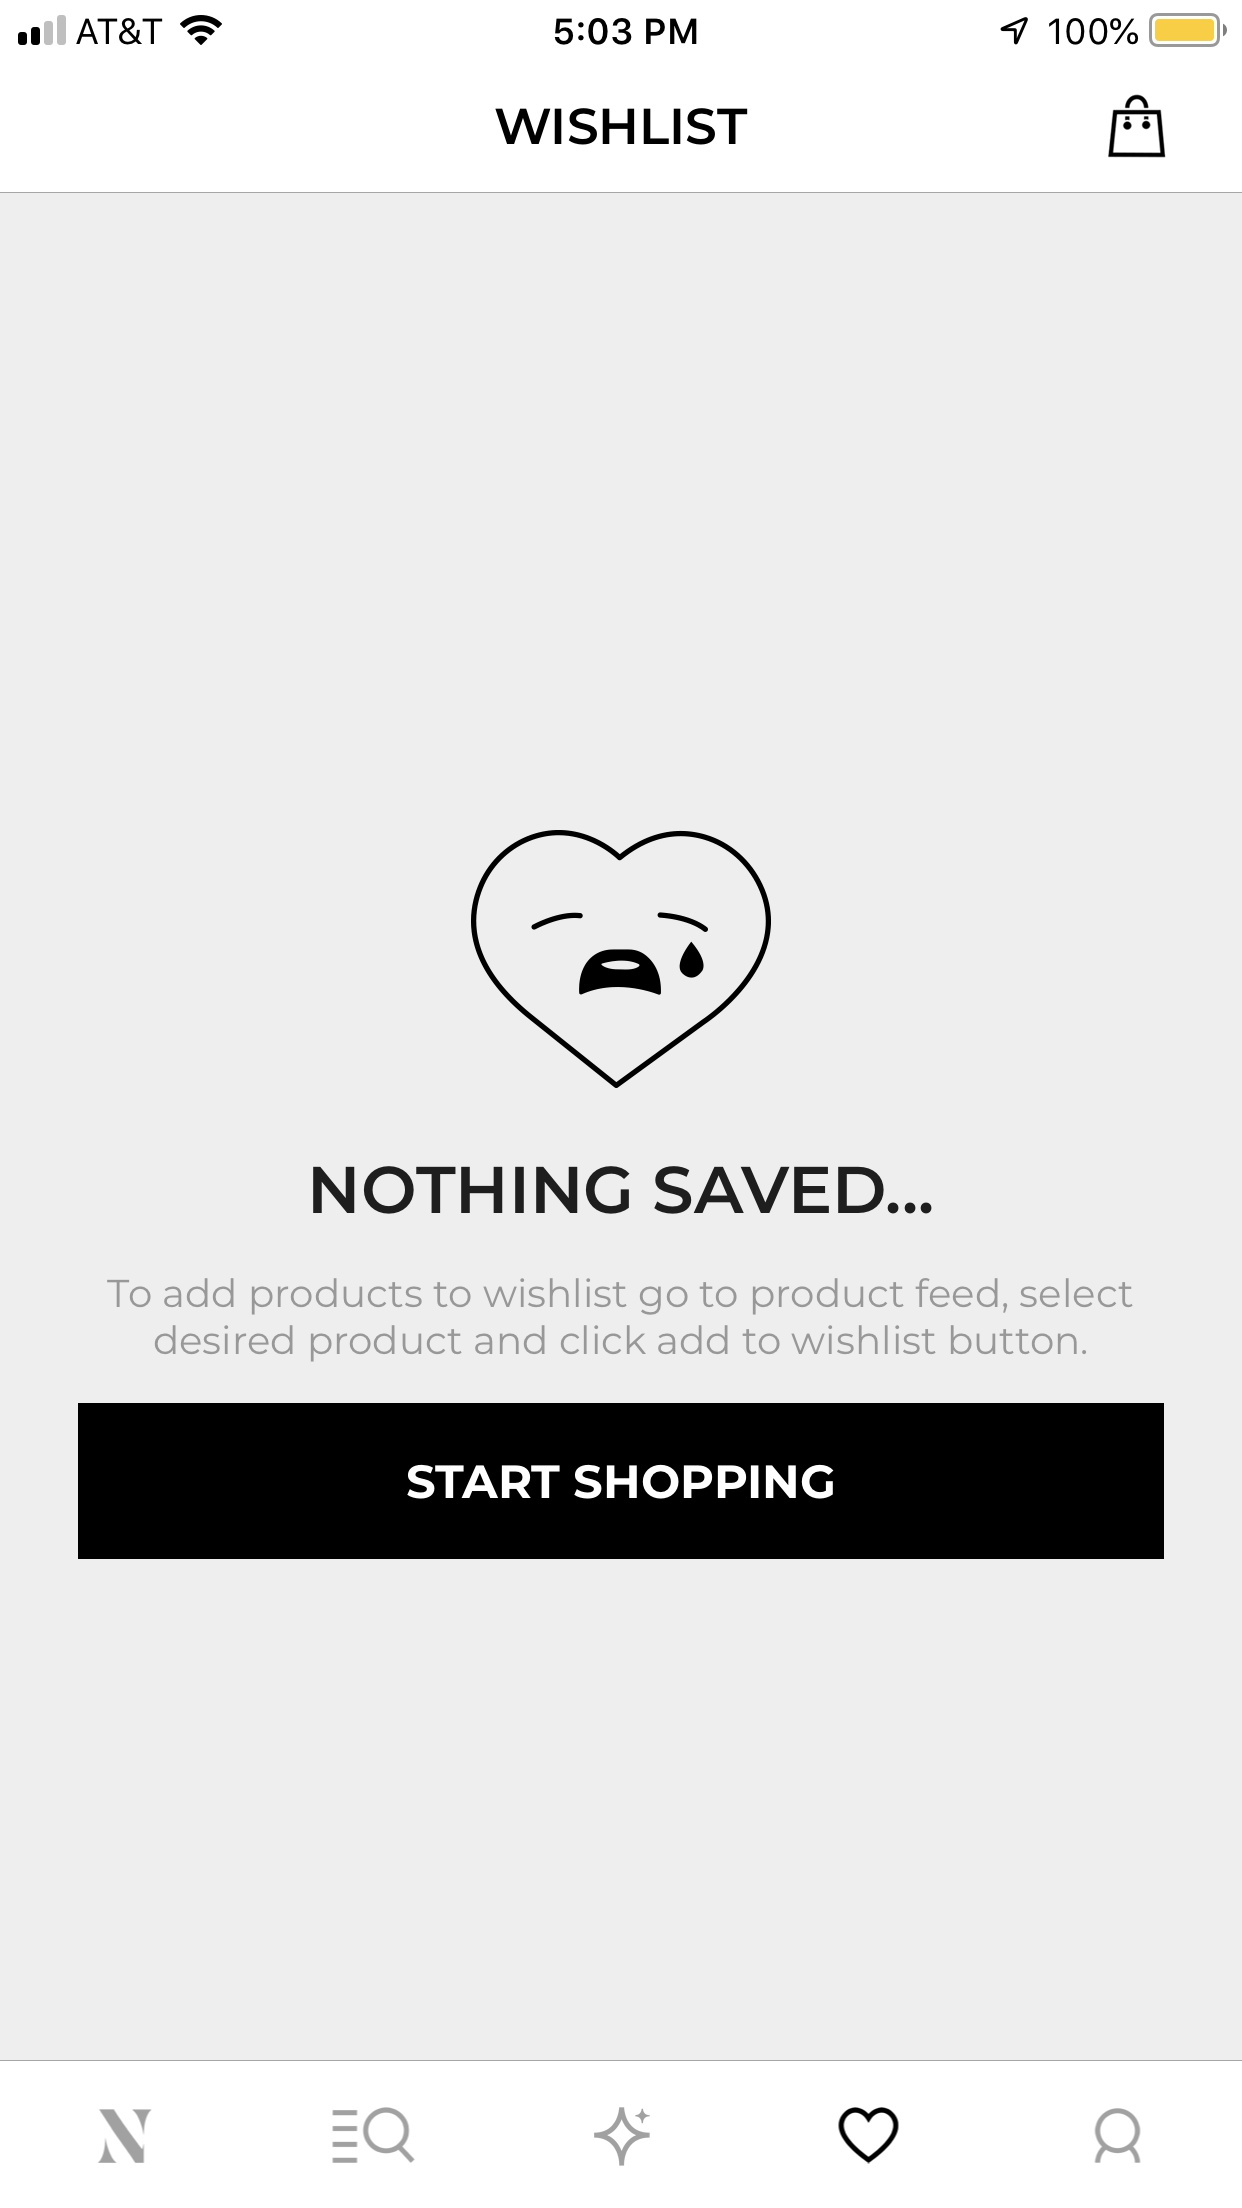Icon: (332, 2106, 416, 2164), (1107, 94, 1166, 159), (839, 2106, 899, 2164), (1093, 2106, 1140, 2164)
Image: (472, 830, 773, 1090), (593, 2106, 651, 2167), (99, 2108, 153, 2164)
Text: (108, 1277, 1133, 1363), (312, 1166, 933, 1216), (494, 108, 749, 146)
TextButton: (79, 1403, 1165, 1560)
UpperTaskBar: (2, 2, 1242, 49)
